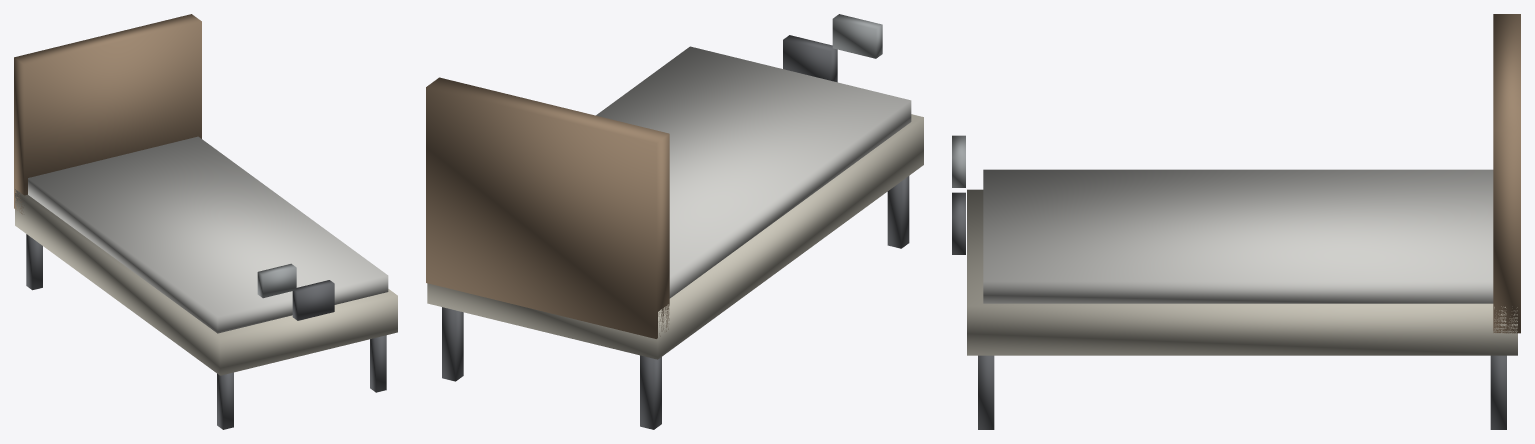
The model's file is single_bed__weathered.glb.
3 renders of one model, left to right at view 1: azimuth 30°, elevation 25°; view 2: azimuth 150°, elevation 25°; view 3: azimuth 270°, elevation 25°, orthographic. The views are drawn at different scales.
Parts seen in each view (by area): view 1: world; view 2: world; view 3: world.
Boxes of the visible parts, x1=… form: world: x1=14, y1=14, x2=397, y2=429; world: x1=426, y1=14, x2=923, y2=429; world: x1=952, y1=14, x2=1520, y2=429.
Size of the model in its own units: 1 by 1.22 by 2.06.
